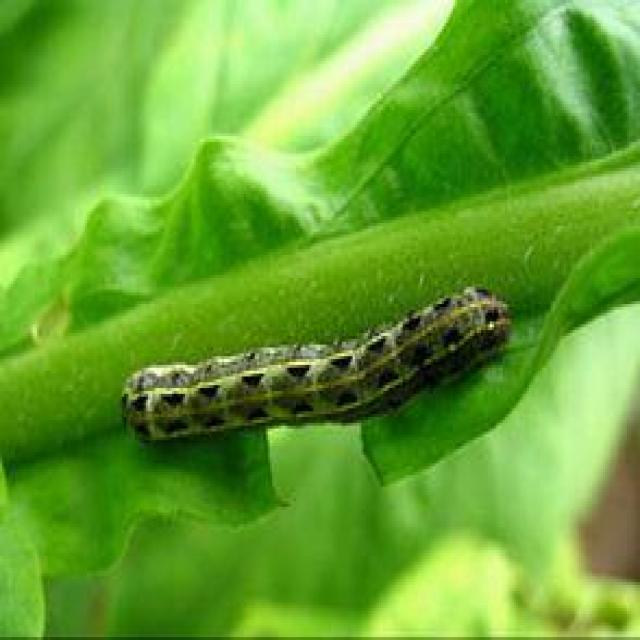BeetArmyWorm-Larva-: (114, 282, 515, 442)
